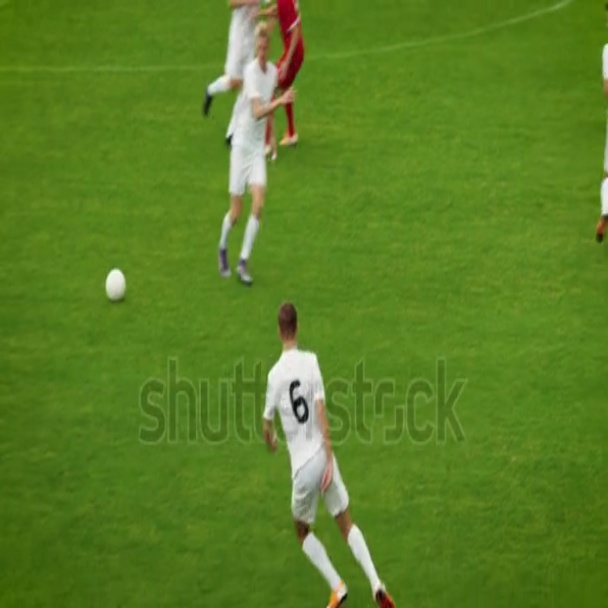ball: (108, 268, 125, 297)
